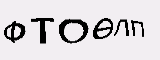Л: (113, 16, 130, 38)
О: (57, 13, 88, 45)
П: (131, 19, 146, 39)
Т: (29, 13, 53, 44)
Ф: (1, 19, 30, 46)
Ө: (93, 13, 115, 42)
